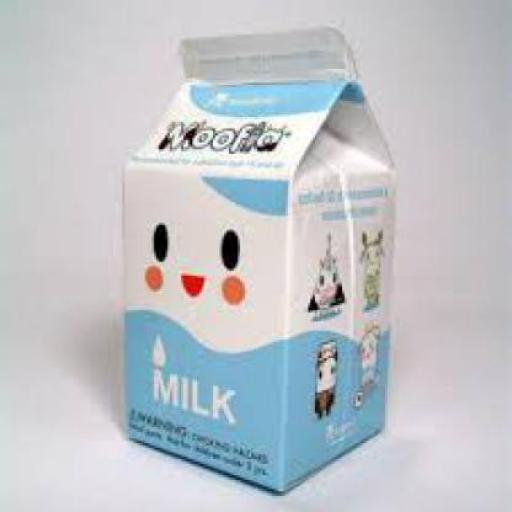drink carton: (117, 26, 393, 498)
